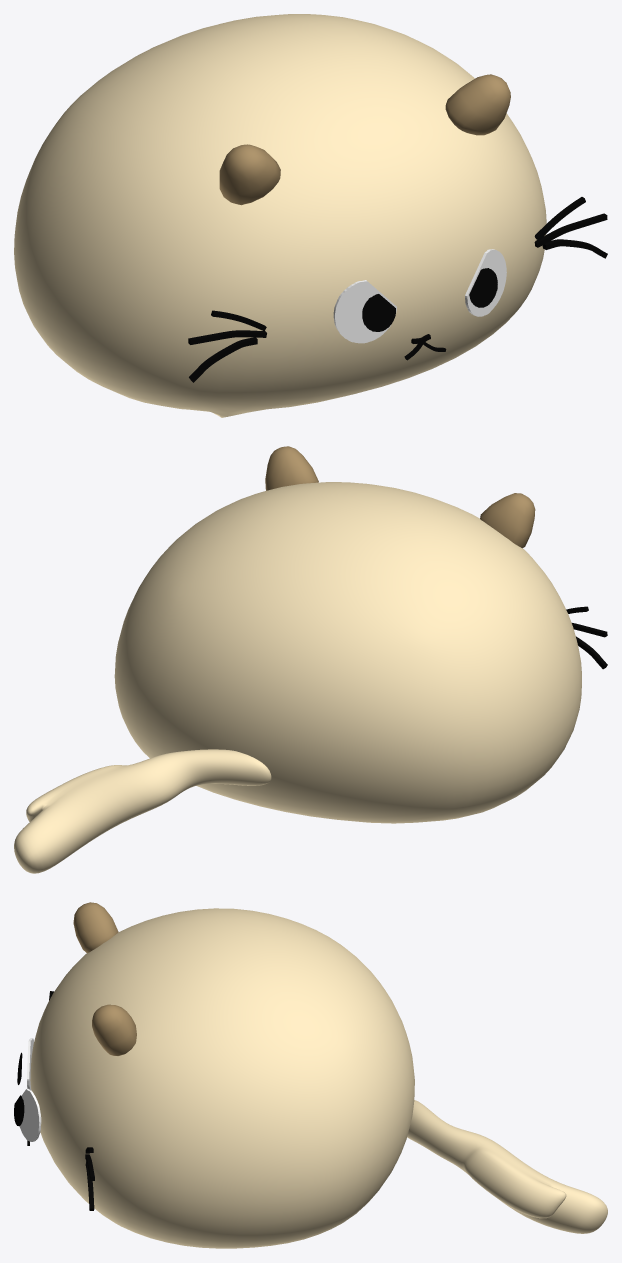
The model's file is cat.glb.
3 renders of one model, top to bottom at view 1: azimuth 30°, elevation 25°; view 2: azimuth 150°, elevation 25°; view 3: azimuth 270°, elevation 25°, orthographic. The views are drawn at different scales.
Visible parts, largest first — view 1: 立方体; view 2: 立方体; view 3: 立方体.
Boxes of the visible parts, x1,y1,x2,y2 form: 立方体: [14, 14, 607, 417]; 立方体: [14, 446, 607, 873]; 立方体: [14, 902, 607, 1248].
Bounding box in the file's own units: 2.21 × 1.31 × 2.87.
